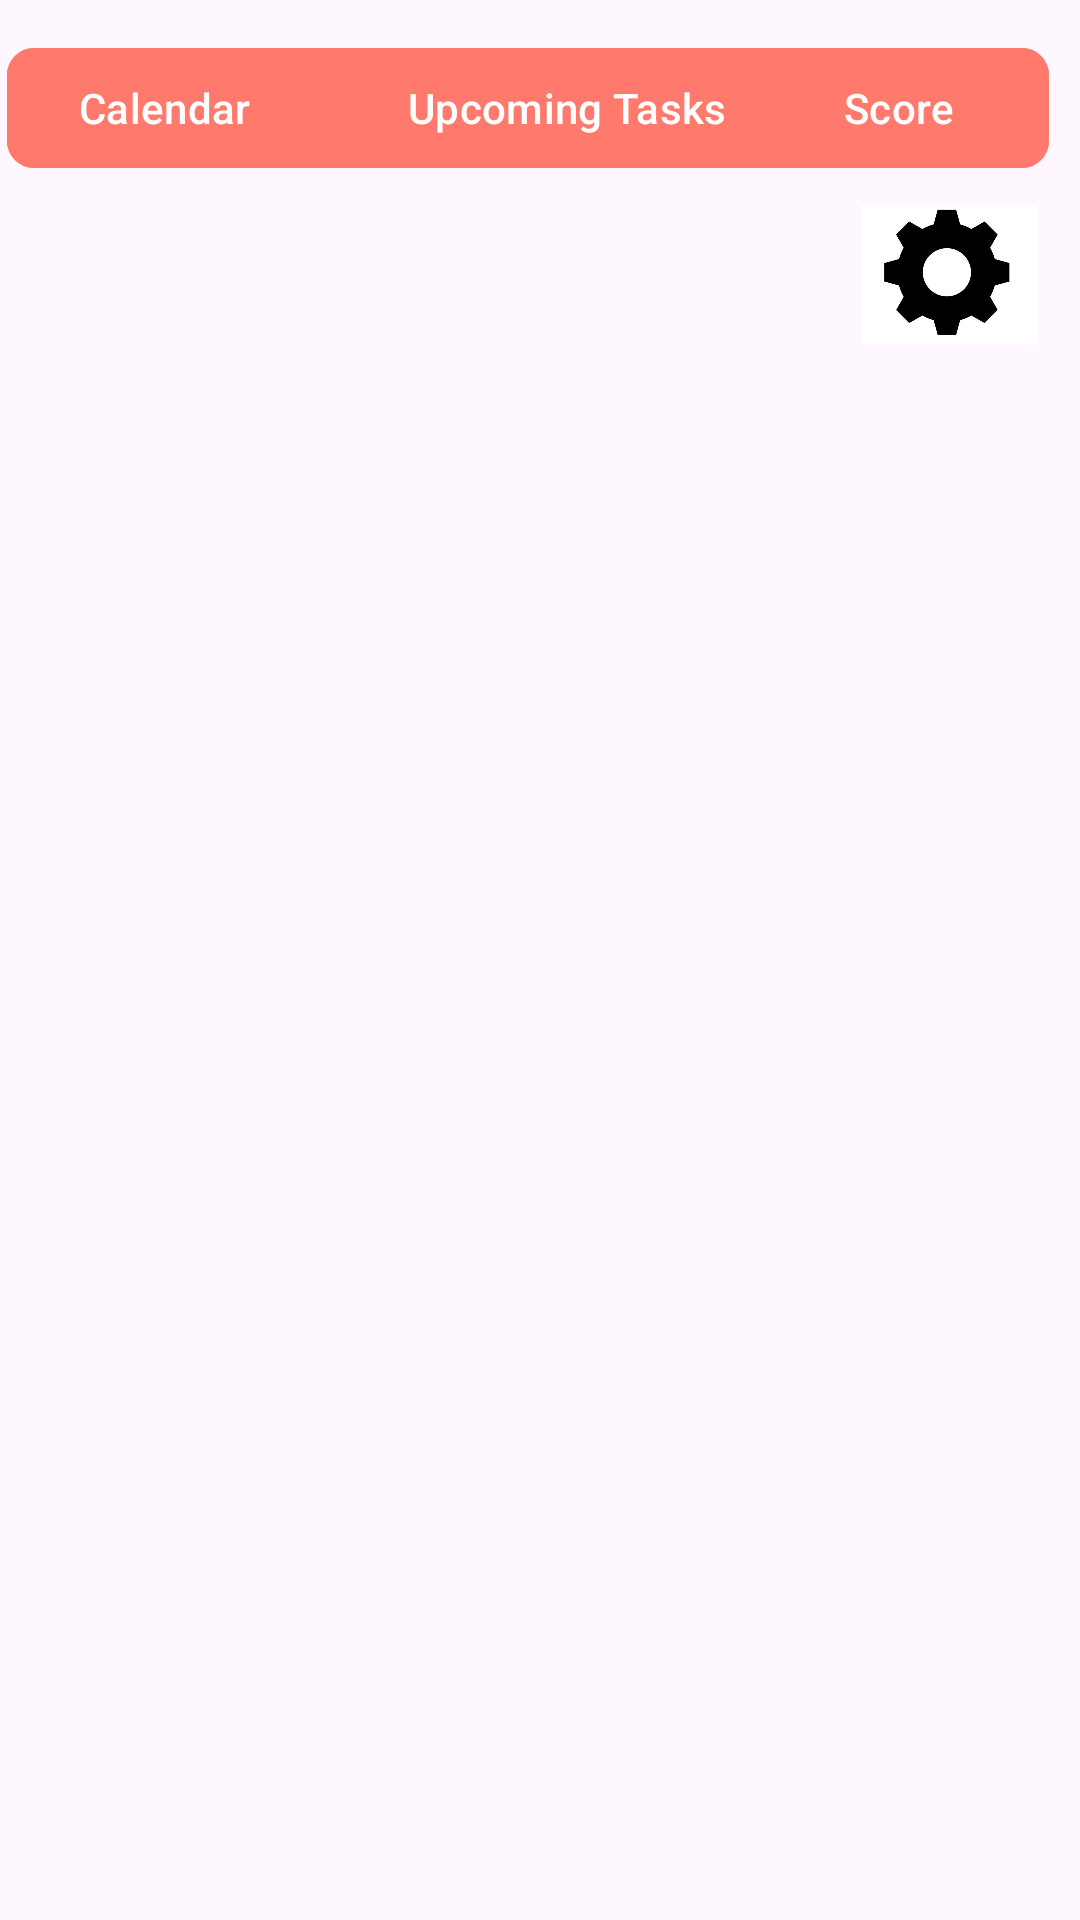

Icon click points for this 1080px×1920px phone screenshot, format (x,y):
gear: (947,272)
